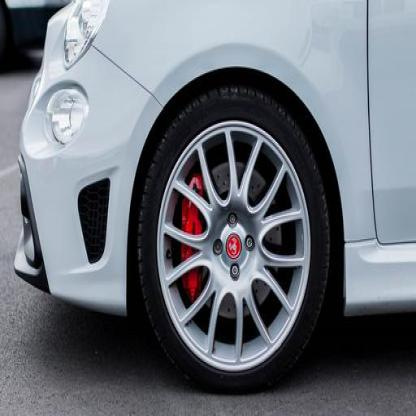Tire: (134, 83, 332, 399)
